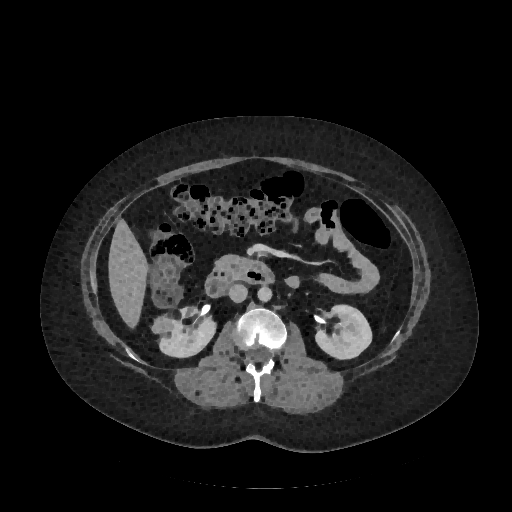Lesion: (149, 313, 179, 339)
